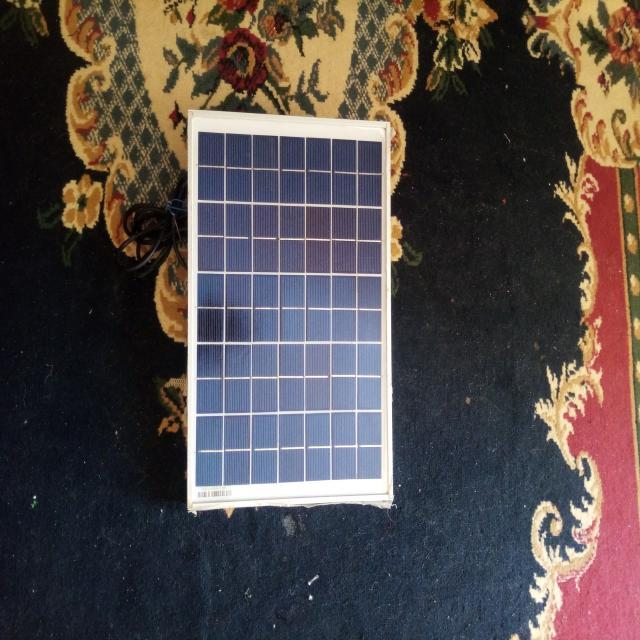no faulty: (188, 113, 391, 507)
